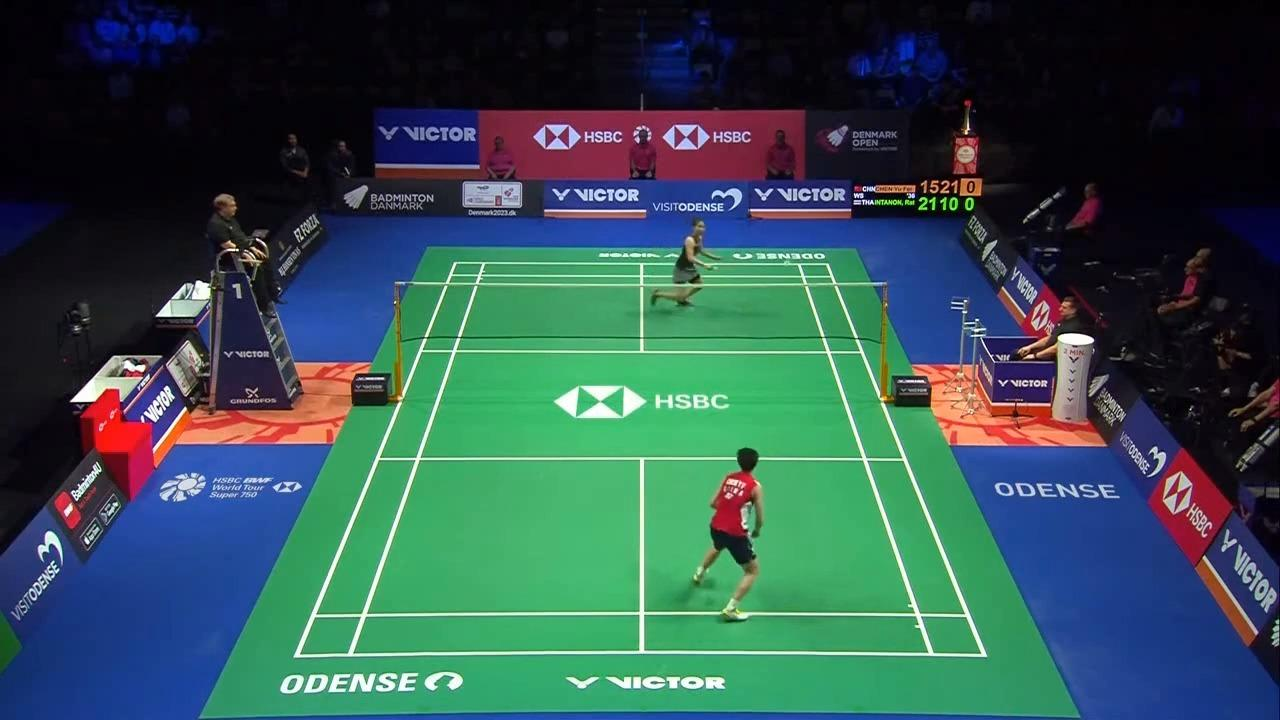shuttle: (784, 259, 793, 267)
